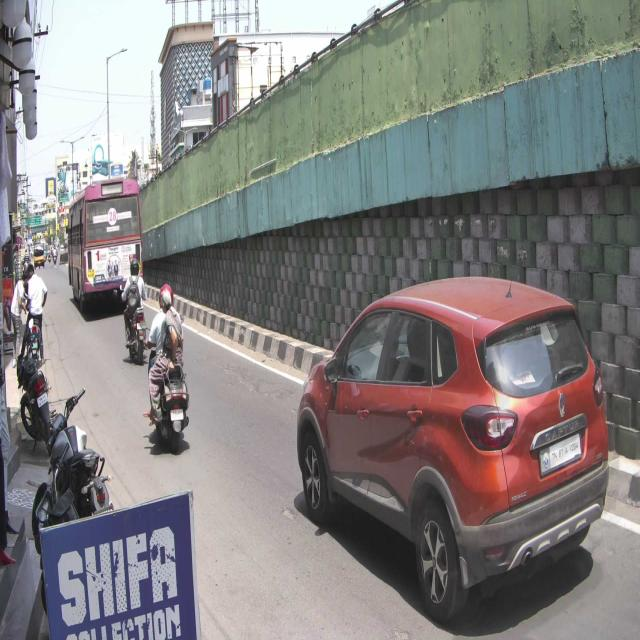double_rider: (145, 283, 190, 456)
